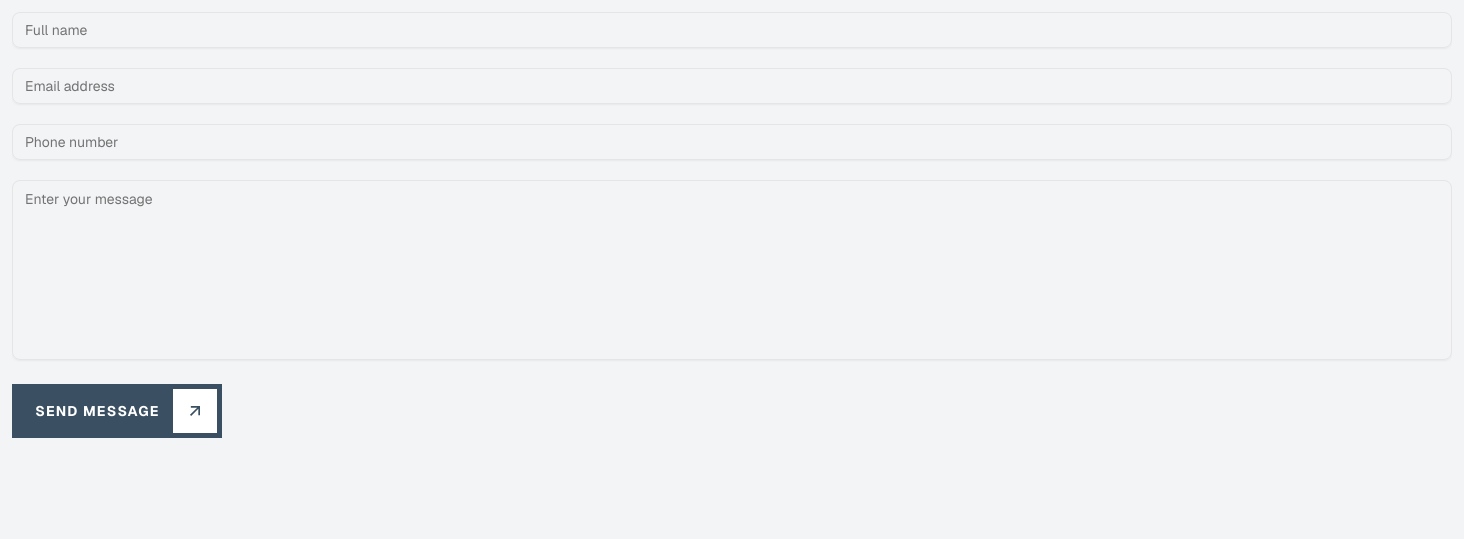
Test: Contact Form › submits successfully and shows success alert
The width and height of the screenshot is (1464, 539).
Fill out fields
Type "John Doe" into the field with placeholder "Full name" at (732, 30), box [12,12,1452,48]
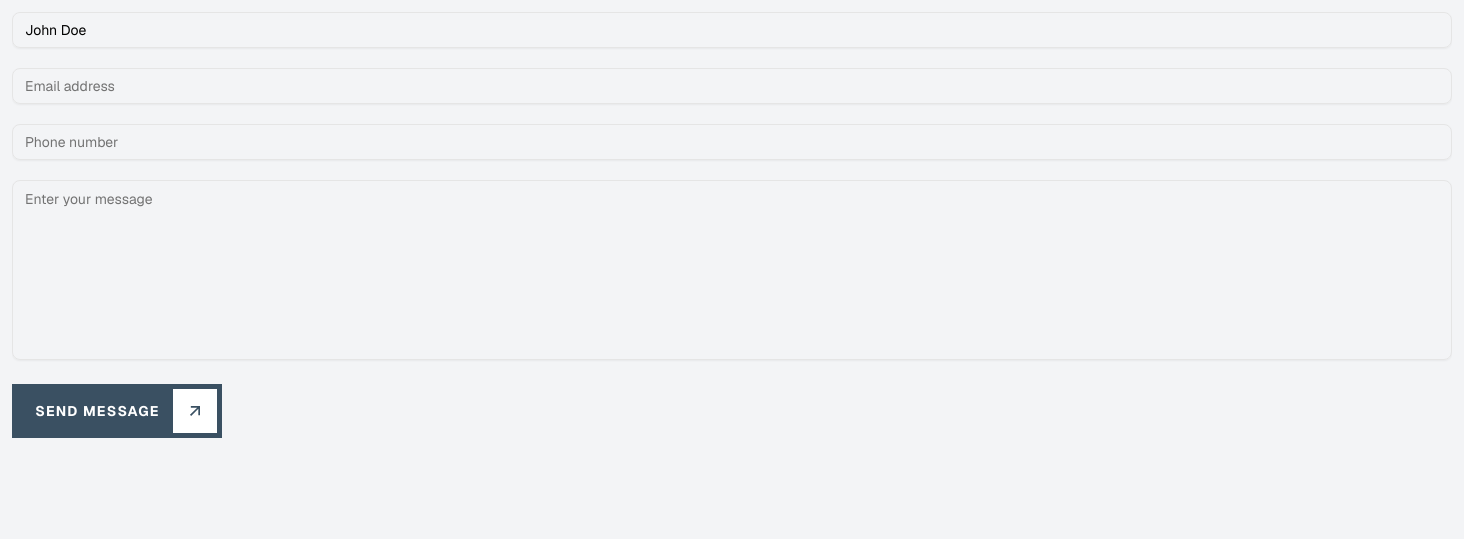
Type "john@example.com" into the field with placeholder "Email address" at (732, 86), box [12,68,1452,104]
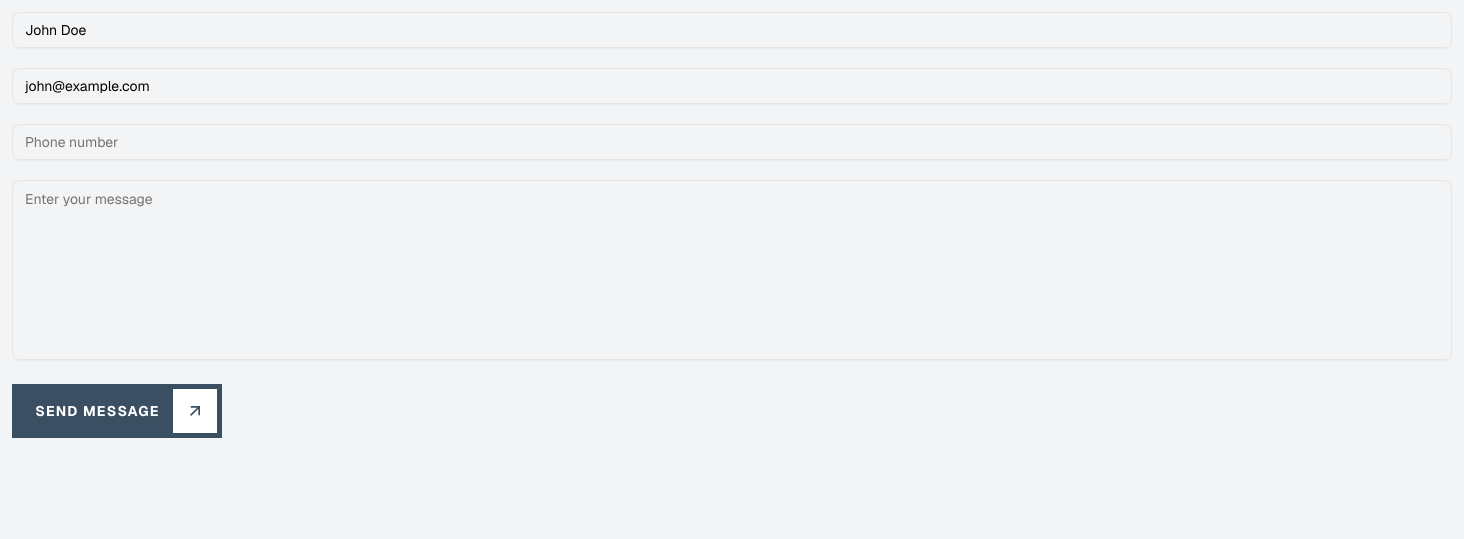
Type "555-5555" into the field with placeholder "Phone number" at (732, 142), box [12,124,1452,160]
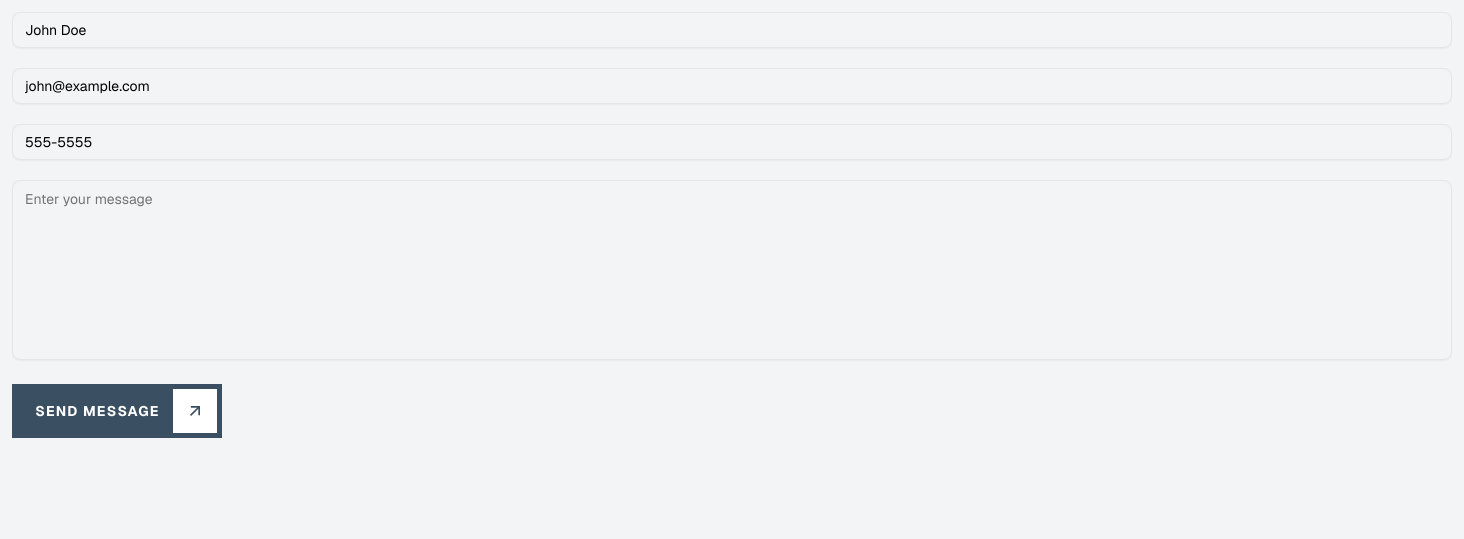
Type "Hello world" into the text box with placeholder "Enter your message" at (732, 270), box [12,180,1452,360]
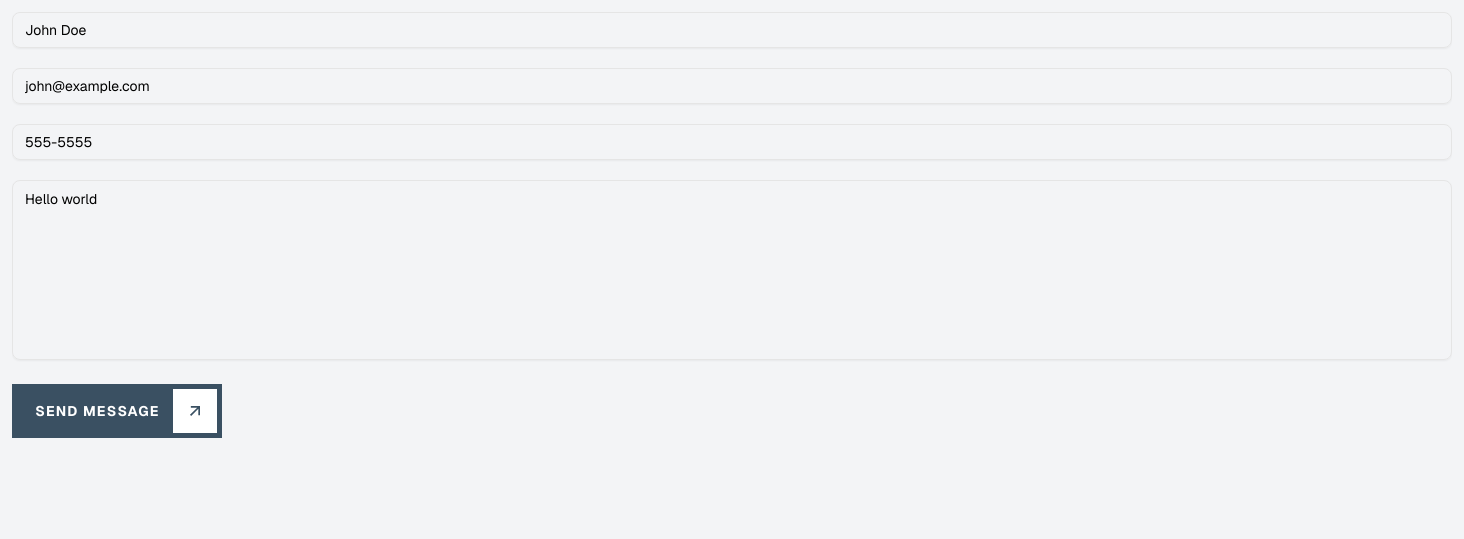
Submit form
Click the button "Send Message" at (117, 411), box [12,384,222,438]
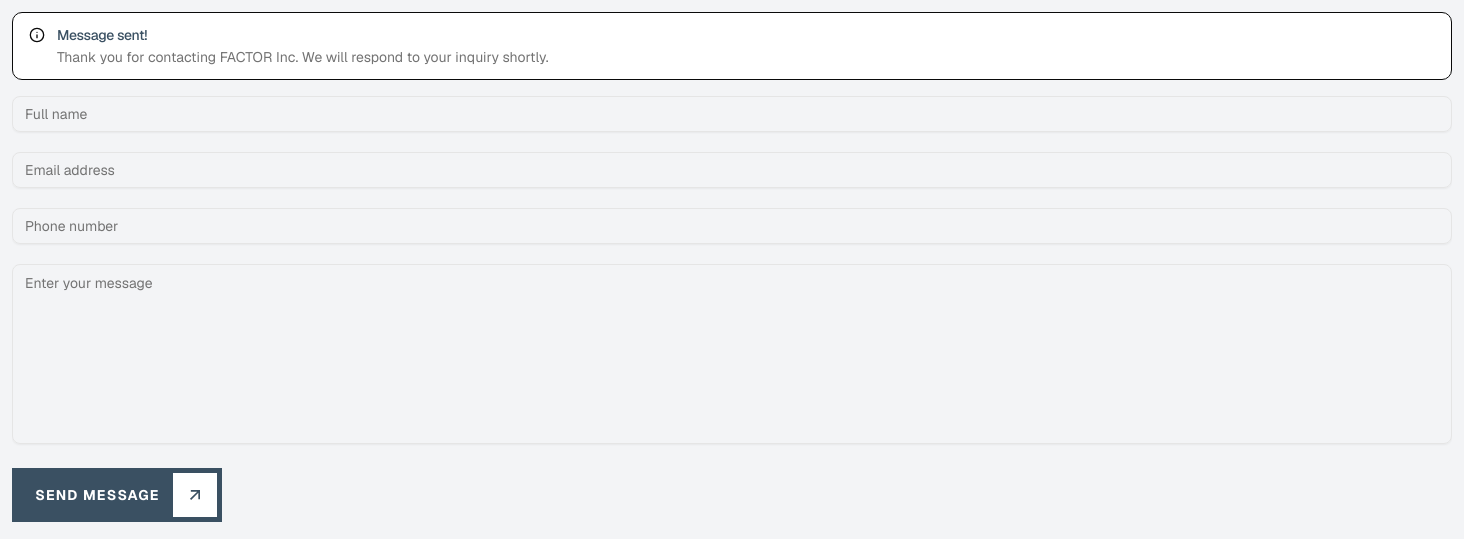
expect the heading "Message sent!" is shown: met, box [57,26,147,44]
